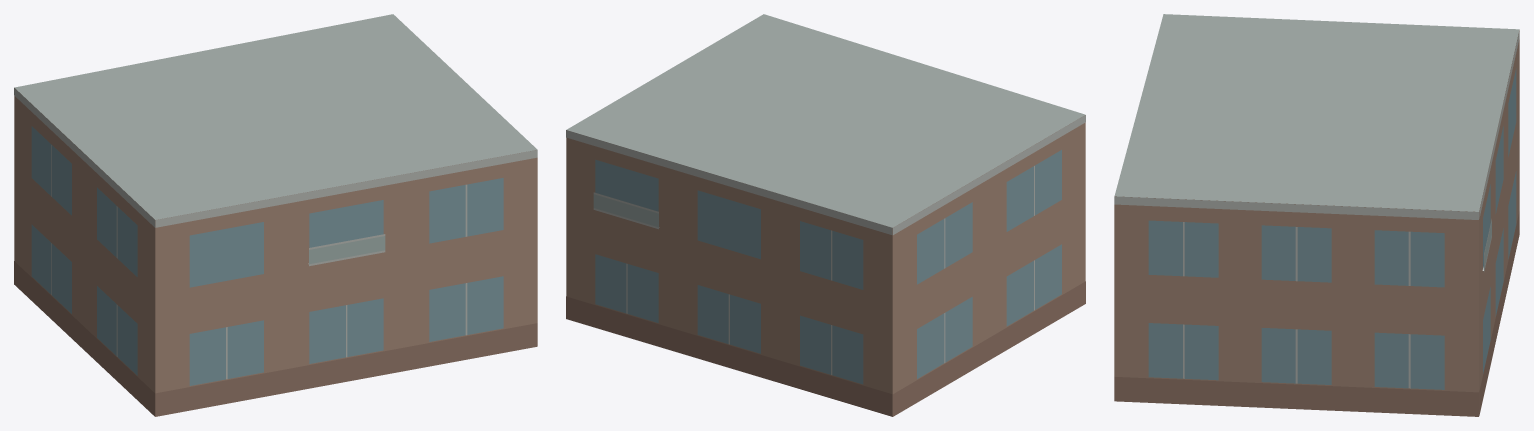
The model's file is survey-upis-32639207.glb.
3 renders of one model, left to right at view 1: azimuth 30°, elevation 25°; view 2: azimuth 150°, elevation 25°; view 3: azimuth 270°, elevation 25°, orthographic. The views are drawn at different scales.
Parts seen in each view (by area): view 1: survey-upis-32639207.tmp; view 2: survey-upis-32639207.tmp; view 3: survey-upis-32639207.tmp.
Boxes of the visible parts, box(x1,y1,x2,y2) form: survey-upis-32639207.tmp: box(14, 14, 537, 416); survey-upis-32639207.tmp: box(566, 14, 1085, 416); survey-upis-32639207.tmp: box(1114, 14, 1519, 416).
Bounding box in the file's own units: 12.65 × 6.1 × 10.94.
